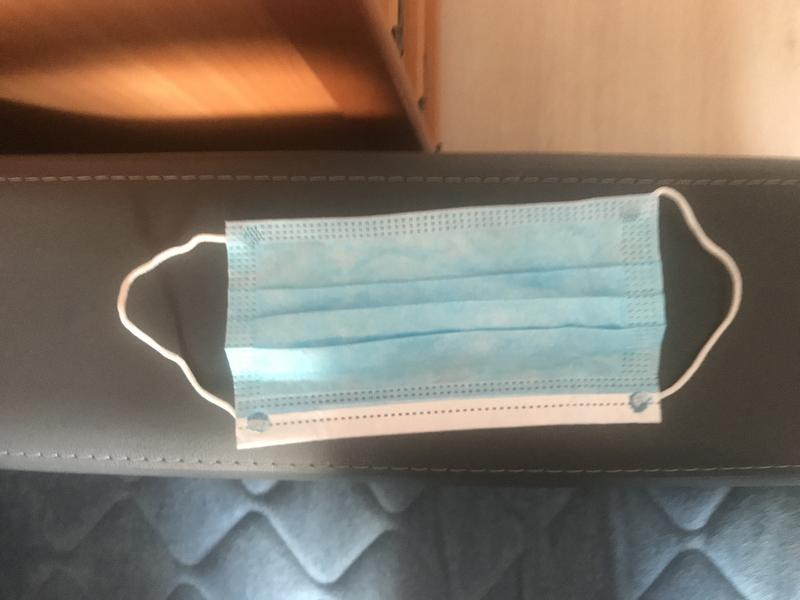medical_mask: (119, 187, 742, 449)
